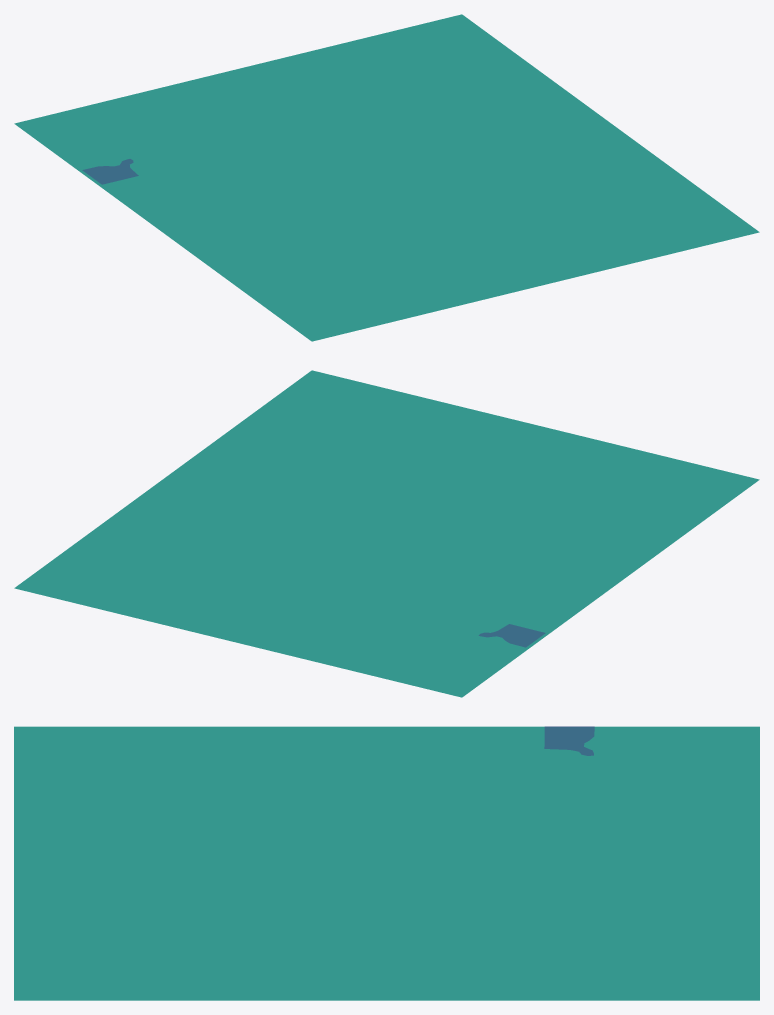
Rendered from fy_cn_flotte.max.fbx.
3 views of the same model, one above another, from view 1: azimuth 30°, elevation 25°; view 2: azimuth 150°, elevation 25°; view 3: azimuth 270°, elevation 25° (orthographic). The views are drawn at different scales.
Parts seen in each view (by area): view 1: Rectangle01; view 2: Rectangle01; view 3: Rectangle01.
Boxes of the visible parts, <box> form: Rectangle01: <box>14,14,759,341</box>; Rectangle01: <box>14,370,759,697</box>; Rectangle01: <box>14,726,759,1000</box>.
Size of the model in its own units: 10027 by 27 by 11546.
